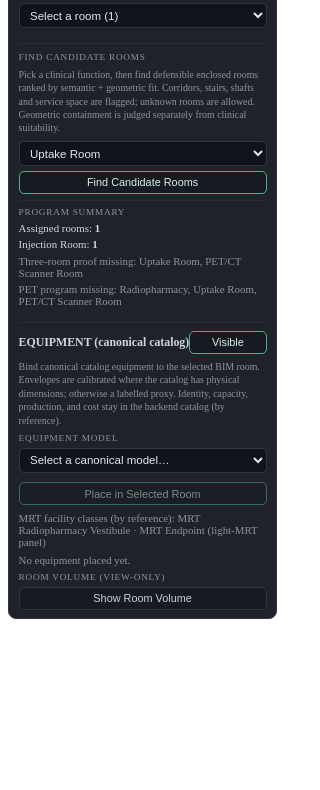
Test case: Build 1A.4 §29 — product containment validation UI (no Developer mode) › Restore Valid Position clears the warning and re-enables Lock (PASS)
Step 1. Select "Injection Room 01 — 1DC1 WAITING / ACTIVITY AREA" in the dropdown below "Room (BIM space)" → [143, 16], box [19,3,267,28]
(page scrolled)
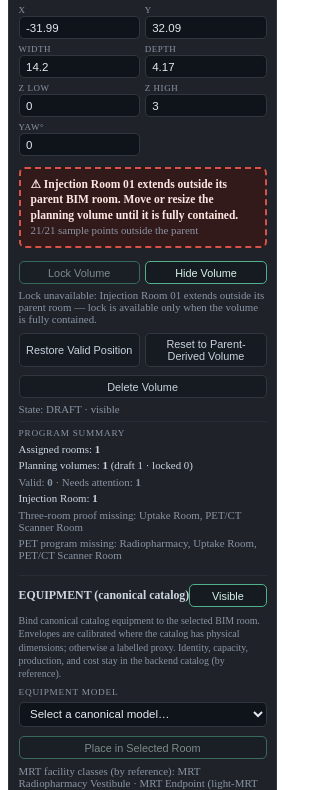
Step 2. Click the button "Restore Valid Position" → [79, 350], box [19,332,140,367]
(page scrolled)
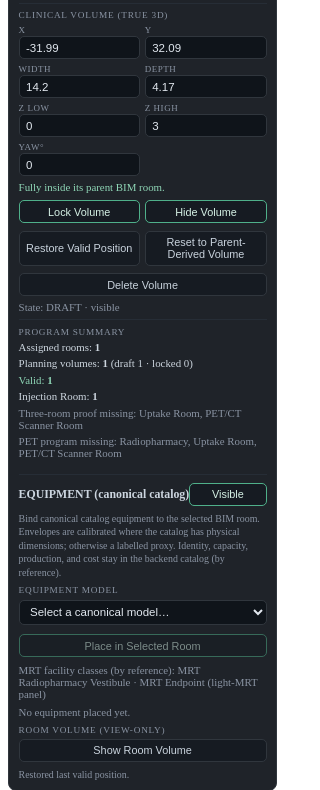
expect the message is gone: met
expect the button "Lock Volume" is enabled: met, box [19,200,140,223]
